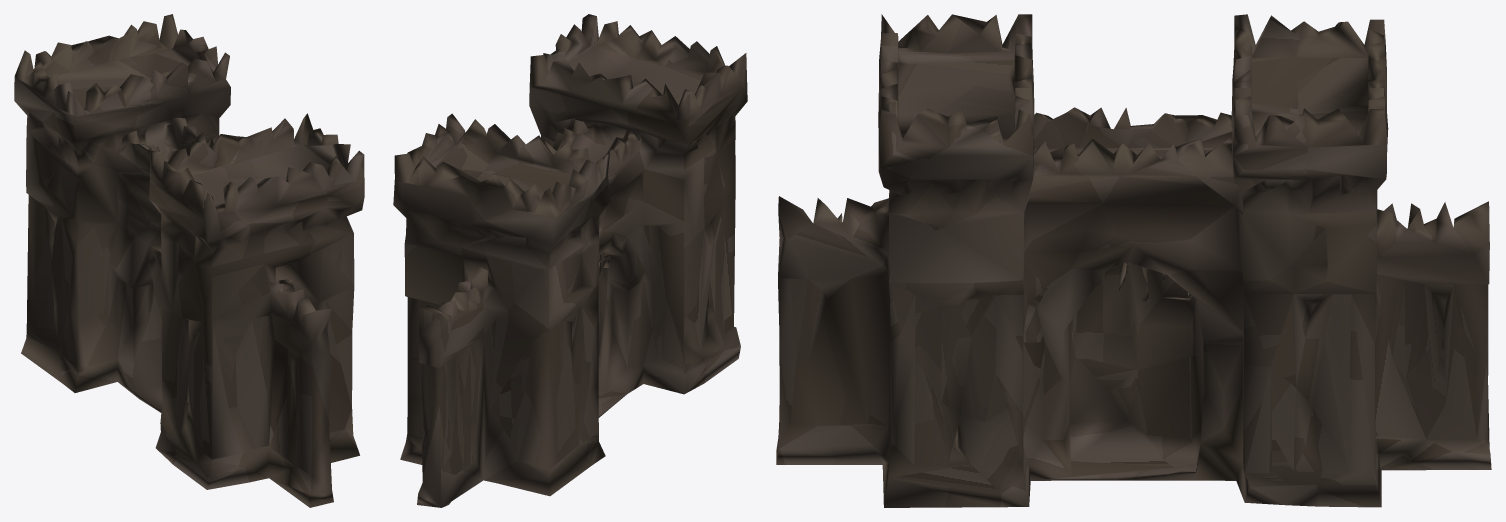
The model's file is castle_gate_wood_lo.glb.
3 renders of one model, left to right at view 1: azimuth 30°, elevation 25°; view 2: azimuth 150°, elevation 25°; view 3: azimuth 270°, elevation 25°, orthographic. The views are drawn at different scales.
Parts seen in each view (by area): view 1: tripo_node_5e163002-5d4c-4927-a084-0bafd74fdaf5; view 2: tripo_node_5e163002-5d4c-4927-a084-0bafd74fdaf5; view 3: tripo_node_5e163002-5d4c-4927-a084-0bafd74fdaf5.
Boxes of the visible parts, x1=… form: tripo_node_5e163002-5d4c-4927-a084-0bafd74fdaf5: x1=14, y1=14, x2=364, y2=507; tripo_node_5e163002-5d4c-4927-a084-0bafd74fdaf5: x1=393, y1=14, x2=747, y2=507; tripo_node_5e163002-5d4c-4927-a084-0bafd74fdaf5: x1=776, y1=14, x2=1491, y2=507.
Bounding box in the file's own units: 0.3342 × 0.5948 × 0.9744.
Materials: 1 (1 with a texture image).
